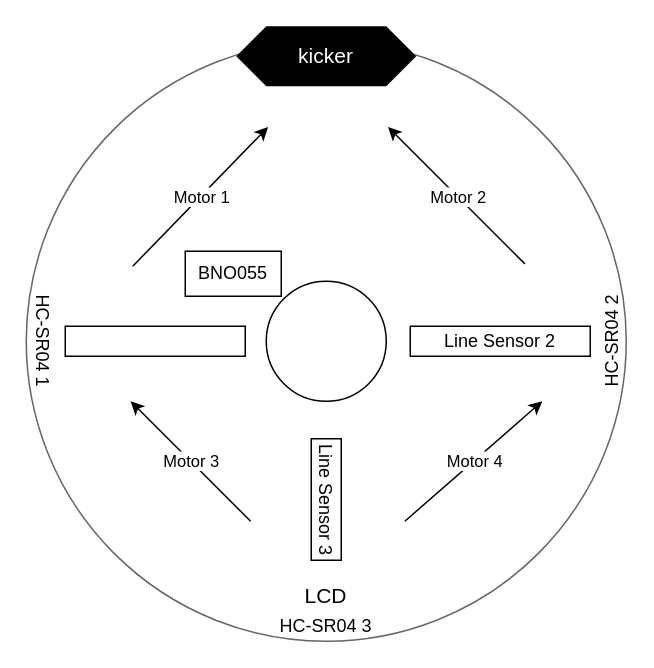
Image size: 654x668. Some labels were removed from this diagram. The shapes that lost their labels are listed below. From the top down, each one's centre as x and y in pixels, then its label:
At pixel 154 340: "Line Sensor 1".
At pixel 325 340: "OpenMV".
